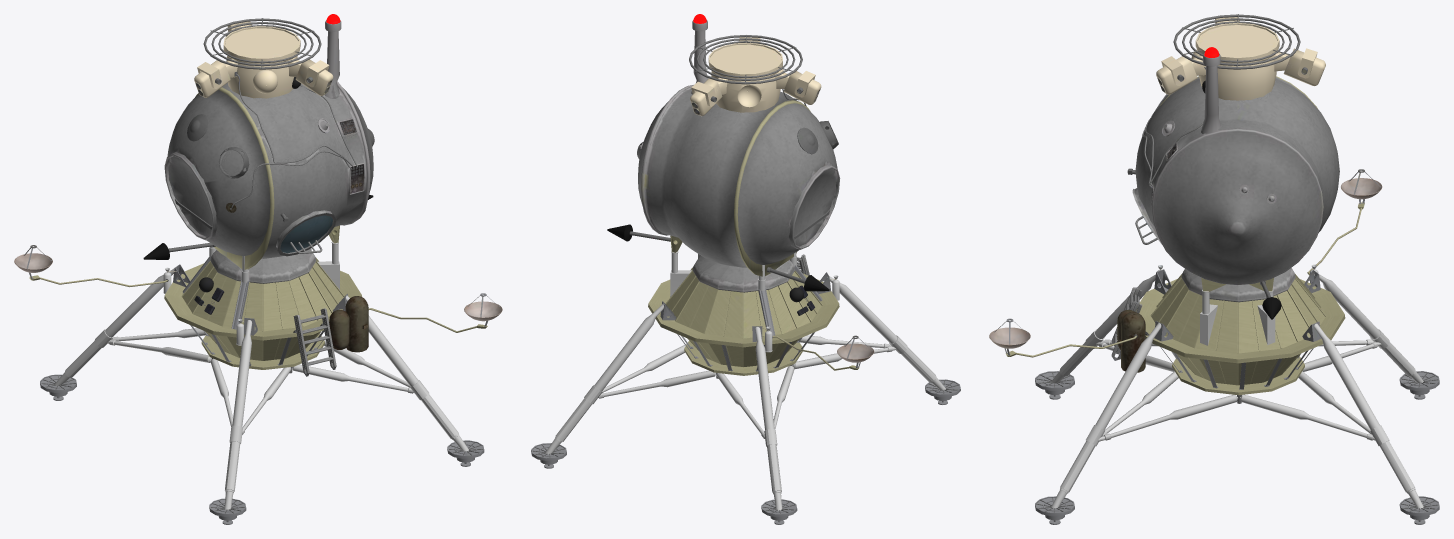
File: module-lunaire.glb
3 renders of one model, left to right at view 1: azimuth 30°, elevation 25°; view 2: azimuth 150°, elevation 25°; view 3: azimuth 270°, elevation 25°, orthographic. The views are drawn at different scales.
Parts seen in each view (by area): view 1: defaultMaterial; view 2: defaultMaterial; view 3: defaultMaterial.
Boxes of the visible parts, left/top/right/bottom form: defaultMaterial: left=14, top=14, right=502, bottom=524; defaultMaterial: left=531, top=14, right=960, bottom=524; defaultMaterial: left=989, top=14, right=1439, bottom=524.
Bounding box in the file's own units: 1.64 × 2 × 1.84.
Materials: 1 (1 with a texture image).
